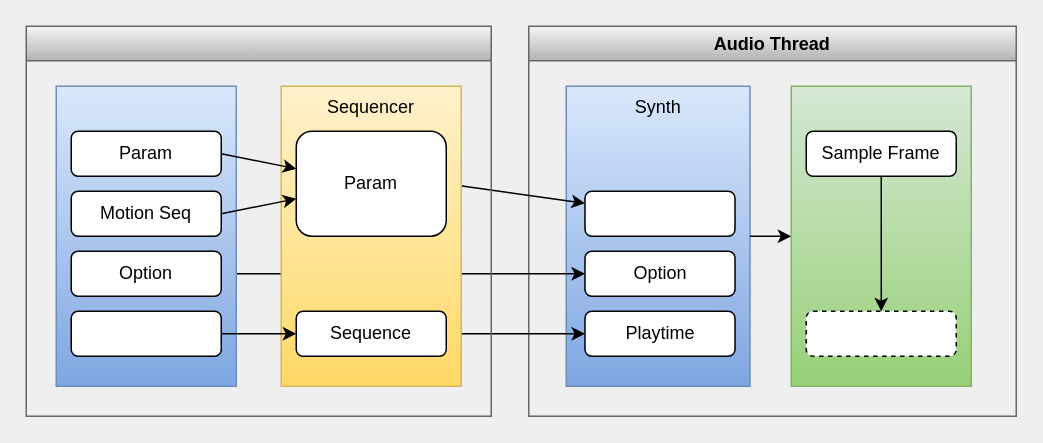
Some shapes in this 1043 by 443 pixel diagram are drawn without their labels. The box of each missing label's shape, as (x1, y1, x2, y2) in pixels:
Audio Output: (790, 85, 971, 386)
Native Output: (805, 310, 956, 356)
Param (Frame): (584, 190, 735, 236)
Part: (55, 85, 236, 386)
Seq: (70, 310, 221, 356)
Sequence Thread: (25, 25, 491, 416)
